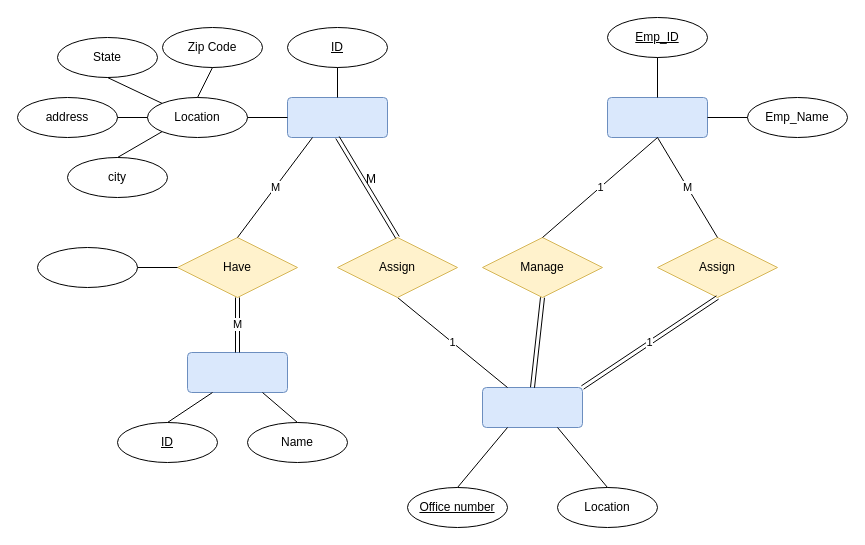
Some shapes in this 865 by 545 pixel diagram are drawn without their labels. Here are the shapes that lost their labels. From the top down, the centre of each, then its label:
At point (337, 117): "Property".
At point (657, 117): "Employee".
At point (87, 267): "Percent".
At point (237, 372): "Owner".
At point (532, 407): "Sales office".
